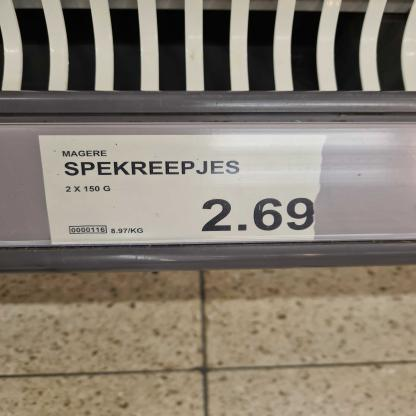prtg: (40, 136, 328, 246)
